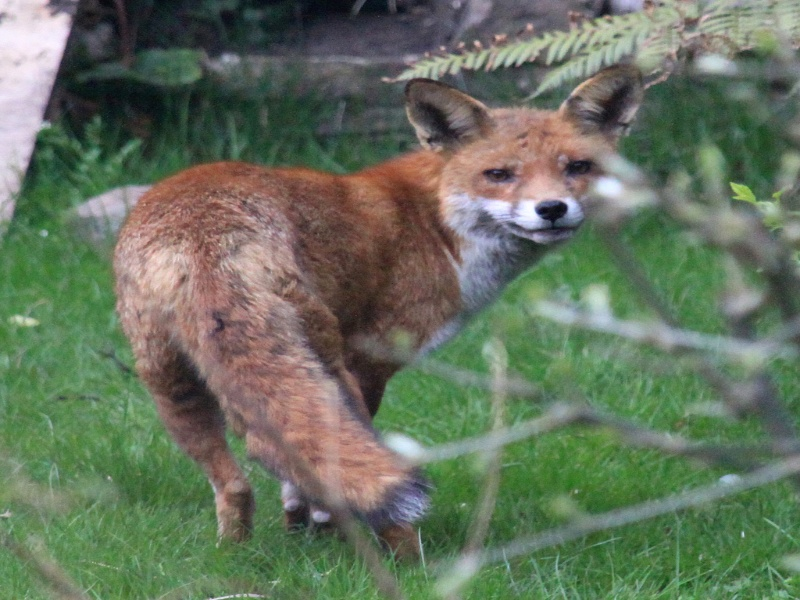fox: (108, 57, 650, 559)
